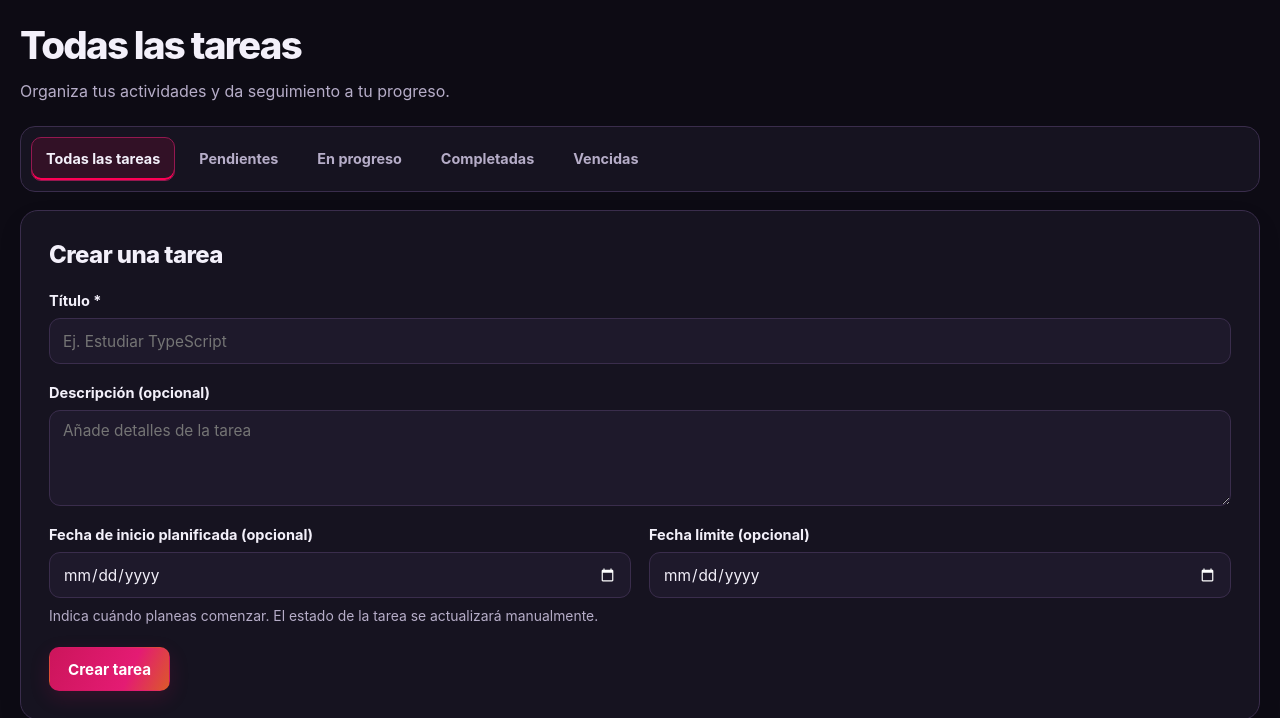
it: Interfaz de gestión de tareas › no comunica éxito cuando falla la escritura de una tarea
In the field labelled "Título *": coordinates (640, 341) [49,318,1231,364], type "Tarea que no se guardó"
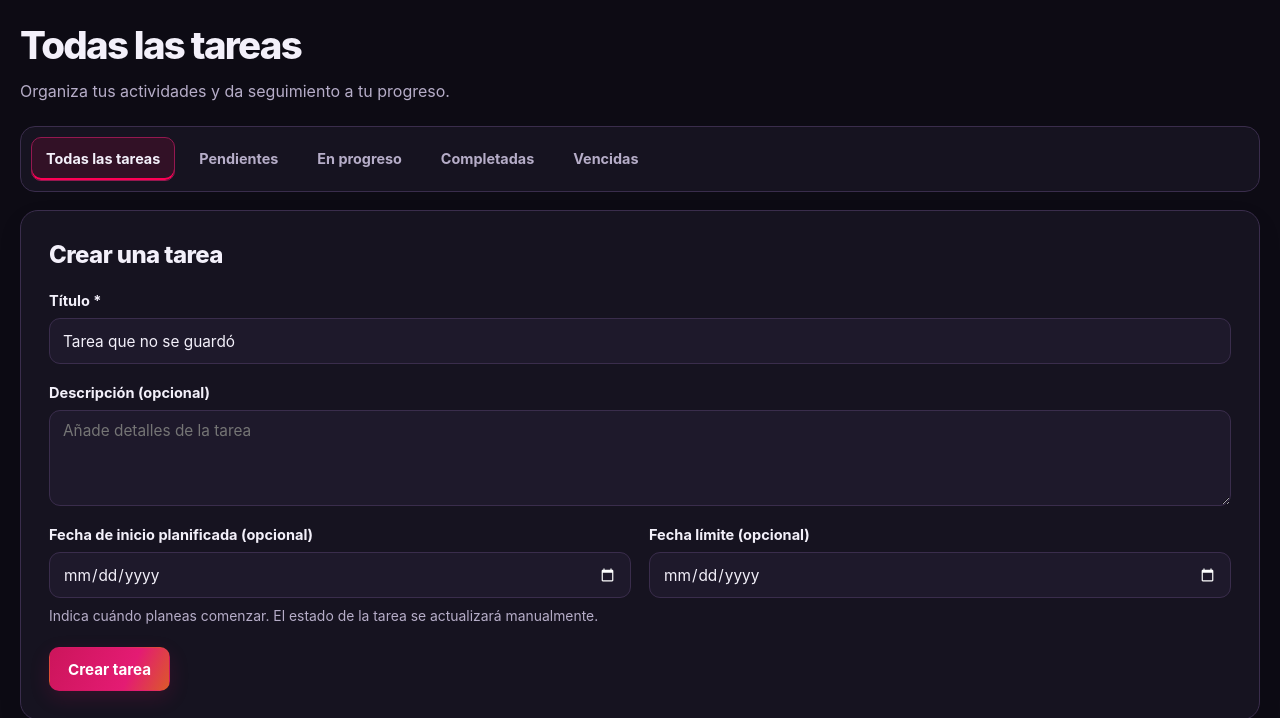
Click the button "Crear tarea": coordinates (110, 669) [49,647,170,691]
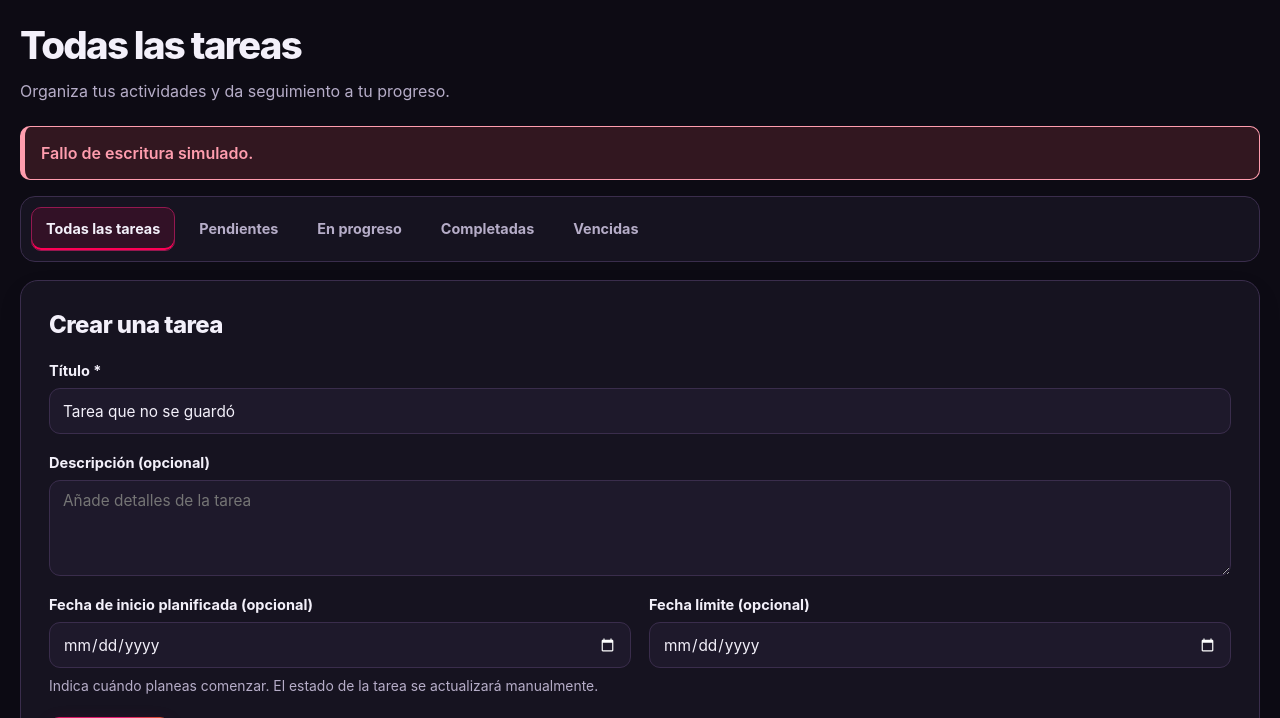
Expected: the message reads "Fallo de escritura simulado.", [41,143,253,163]
